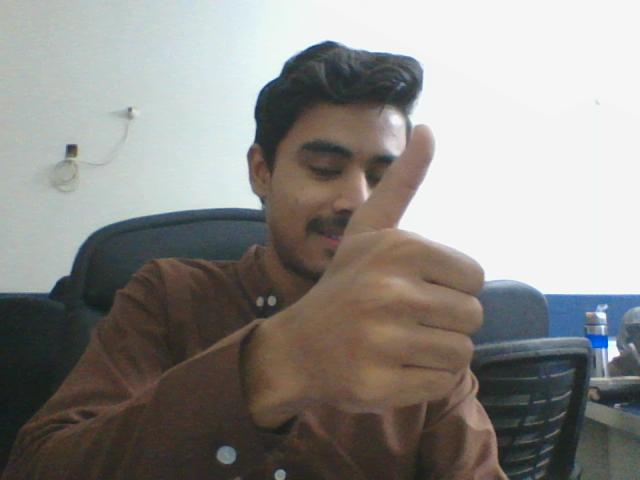thumbs-up: (328, 117, 494, 427)
